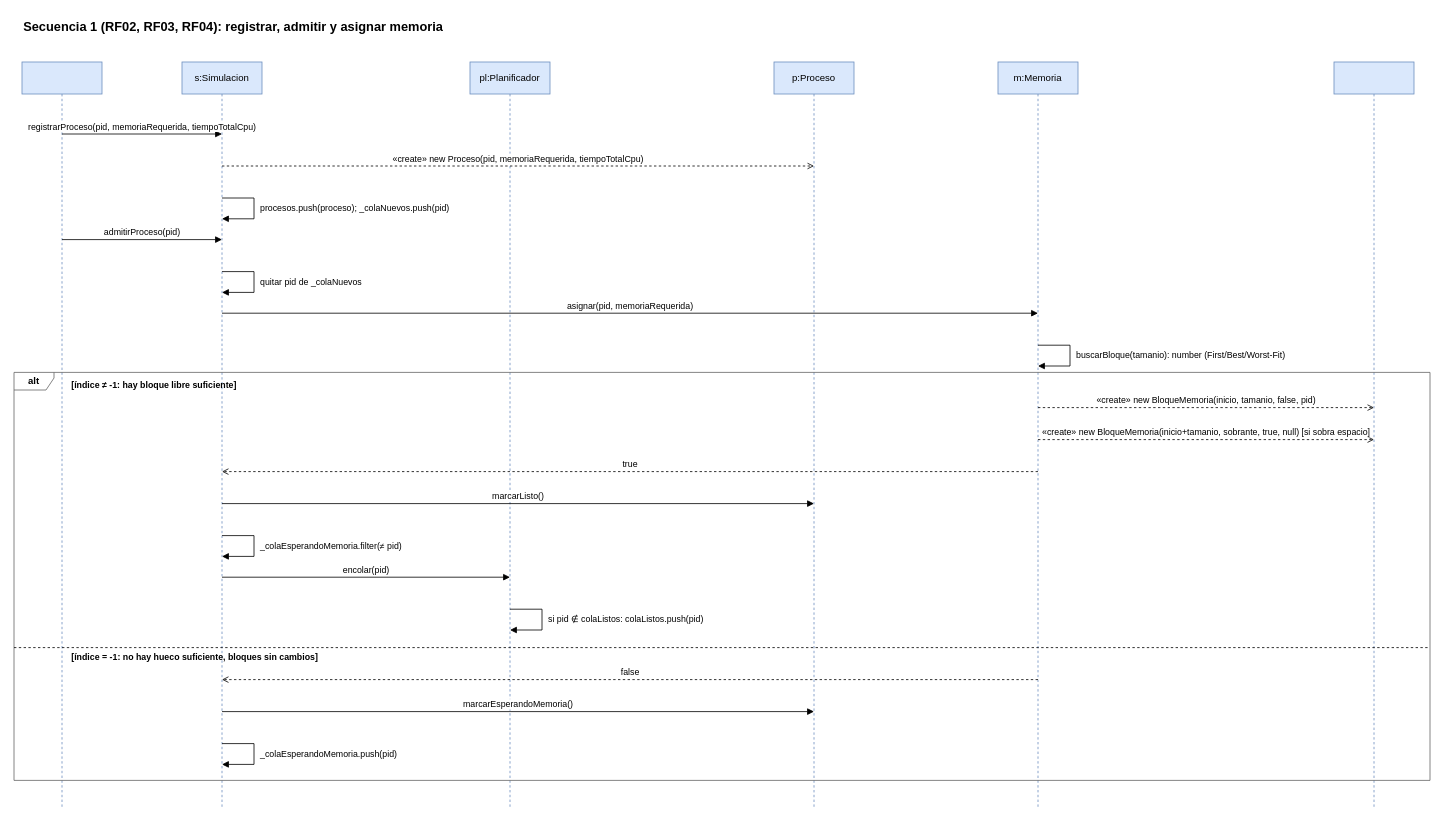
Image size: 1445x823. Some labels were removed from this diagram. Each missing label, with the box of its shape:
:BloqueMemoria: (1333, 61, 1414, 809)
:Test (cliente): (21, 61, 102, 809)
